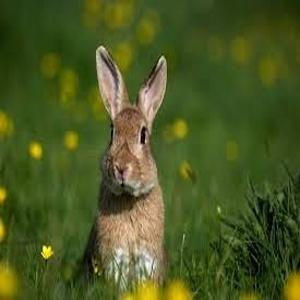rabbit: (88, 46, 169, 285)
